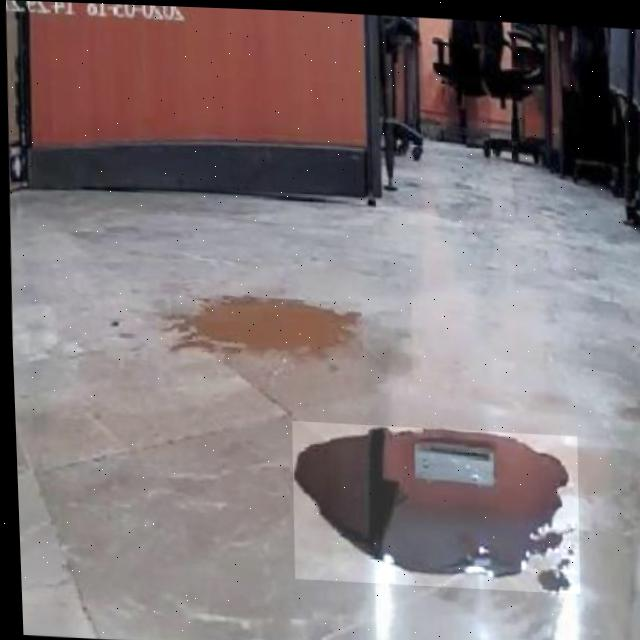spillage: (289, 425, 574, 589), (170, 295, 359, 354)
